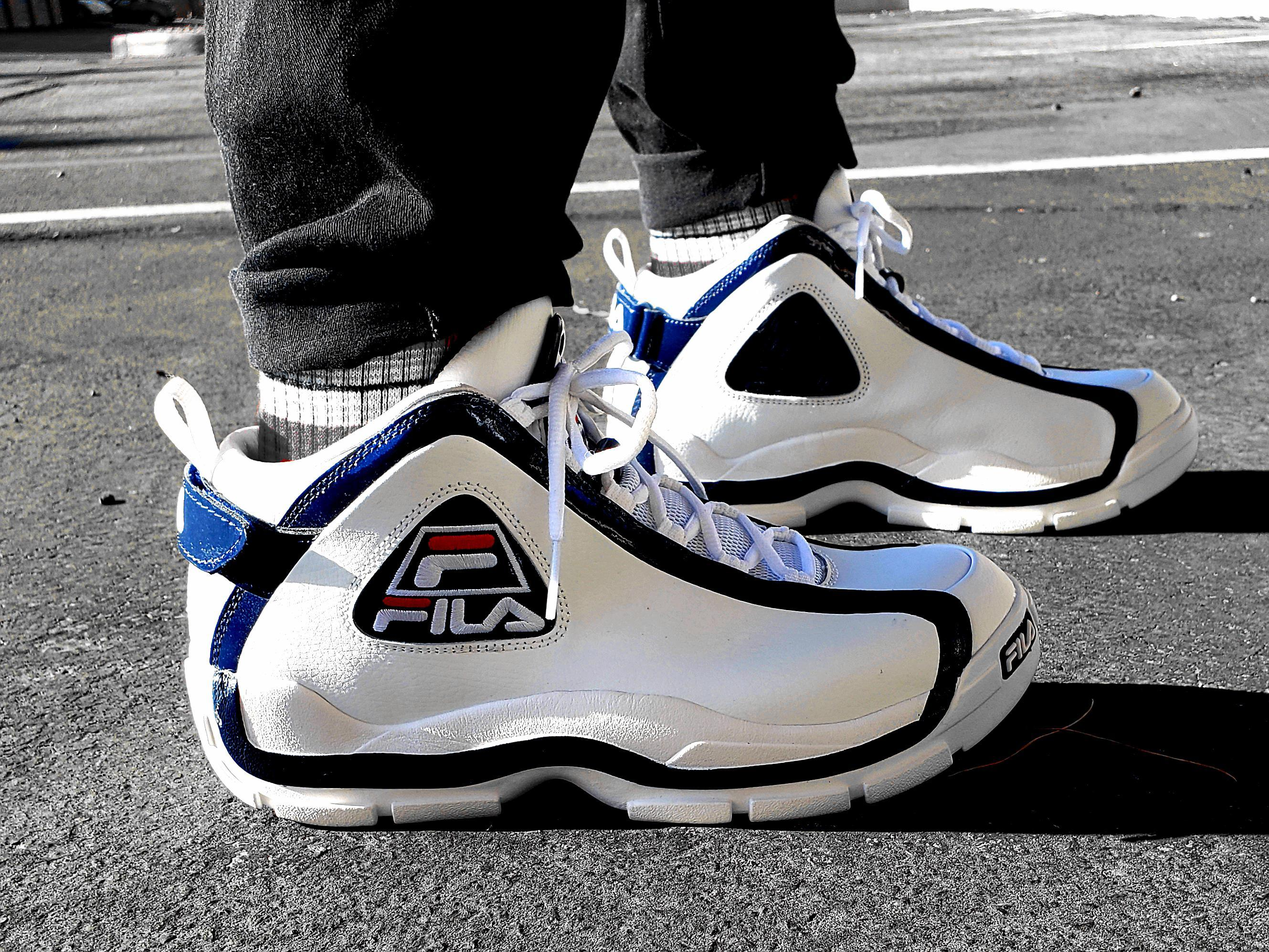sneaker: (135, 289, 1055, 843), (578, 158, 1214, 547)
